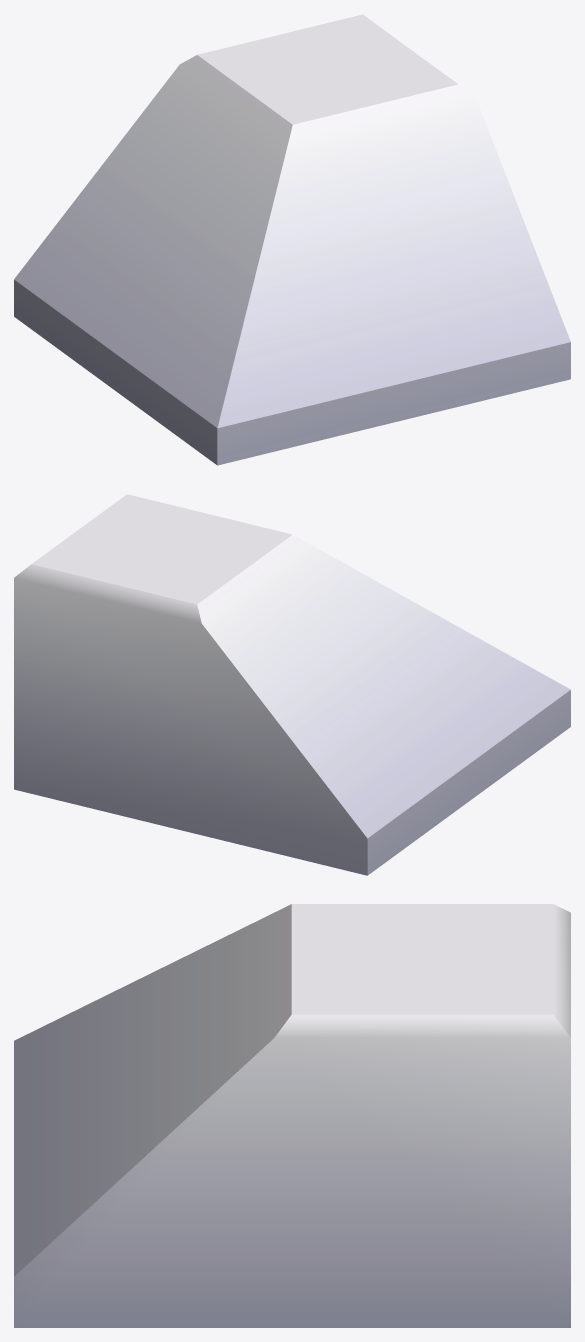
File: kenney-brick-none-hq-brick-slope-corner-outside-2-x-2.glb
3 renders of one model, top to bottom at view 1: azimuth 30°, elevation 25°; view 2: azimuth 150°, elevation 25°; view 3: azimuth 270°, elevation 25°, orthographic. The views are drawn at different scales.
Parts seen in each view (by area): view 1: none-hq-brick-slope-corner-outside-2x2; view 2: none-hq-brick-slope-corner-outside-2x2; view 3: none-hq-brick-slope-corner-outside-2x2.
Part boxes in pixels (x1=…): none-hq-brick-slope-corner-outside-2x2: x1=14, y1=14, x2=570, y2=465; none-hq-brick-slope-corner-outside-2x2: x1=14, y1=494, x2=570, y2=875; none-hq-brick-slope-corner-outside-2x2: x1=14, y1=904, x2=570, y2=1327.
Bounding box in the file's own units: 0.159 × 0.096 × 0.1585.
Materials: 1 (1 with a texture image).
